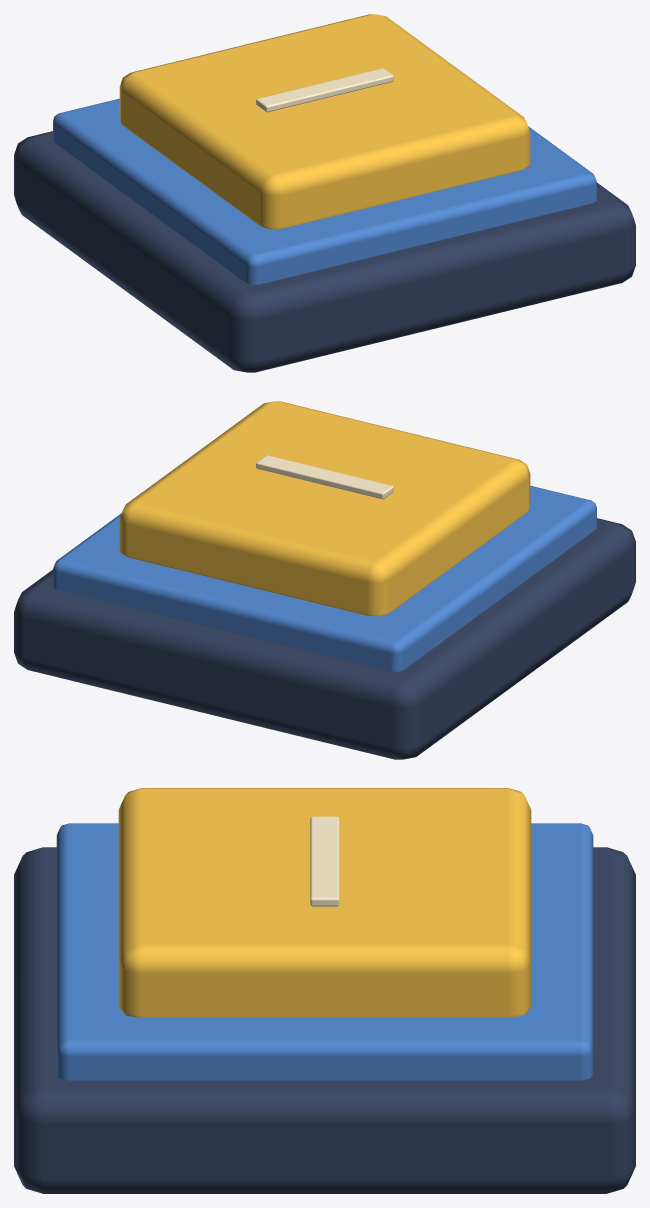
File: pressure-switch.glb
3 renders of one model, top to bottom at view 1: azimuth 30°, elevation 25°; view 2: azimuth 150°, elevation 25°; view 3: azimuth 270°, elevation 25°, orthographic. The views are drawn at different scales.
Parts seen in each view (by area): view 1: housing, button, rim, mark; view 2: housing, button, rim, mark; view 3: button, housing, rim, mark.
Boxes of the visible parts, x1,y1,x2,y2 form: housing: (14,131,635,372); button: (119,14,530,229); rim: (53,98,596,284); mark: (256,68,393,112); housing: (14,518,635,759); button: (119,401,530,616); rim: (53,485,596,671); mark: (256,455,393,499); button: (118,788,531,1017); housing: (14,847,635,1193); rim: (56,823,593,1080); mark: (310,816,339,906).
Size of the model in its own units: 0.95 by 0.3655 by 0.95.
